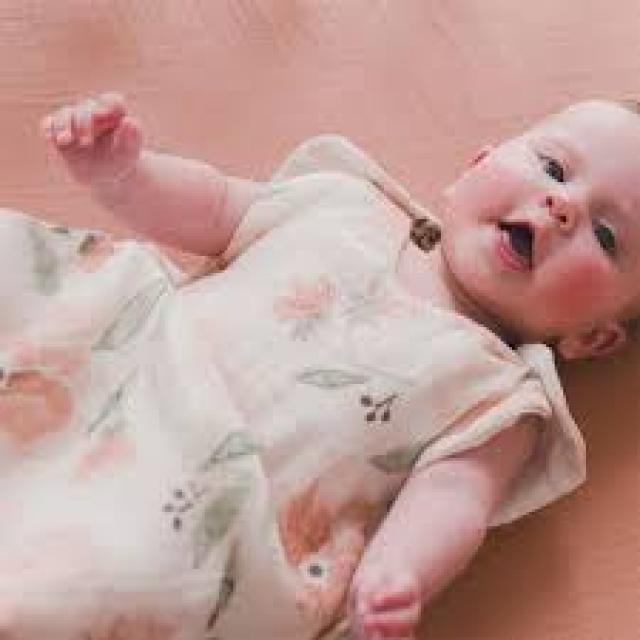blanket: (0, 178, 541, 639)
